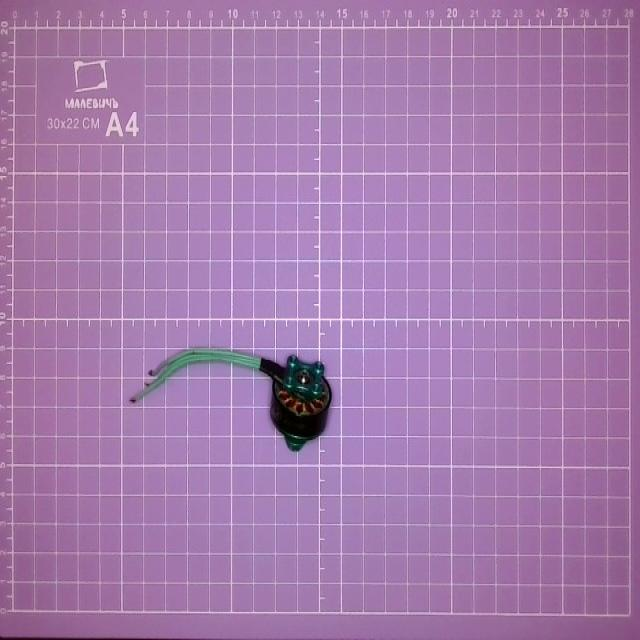motor: (127, 346, 336, 457)
